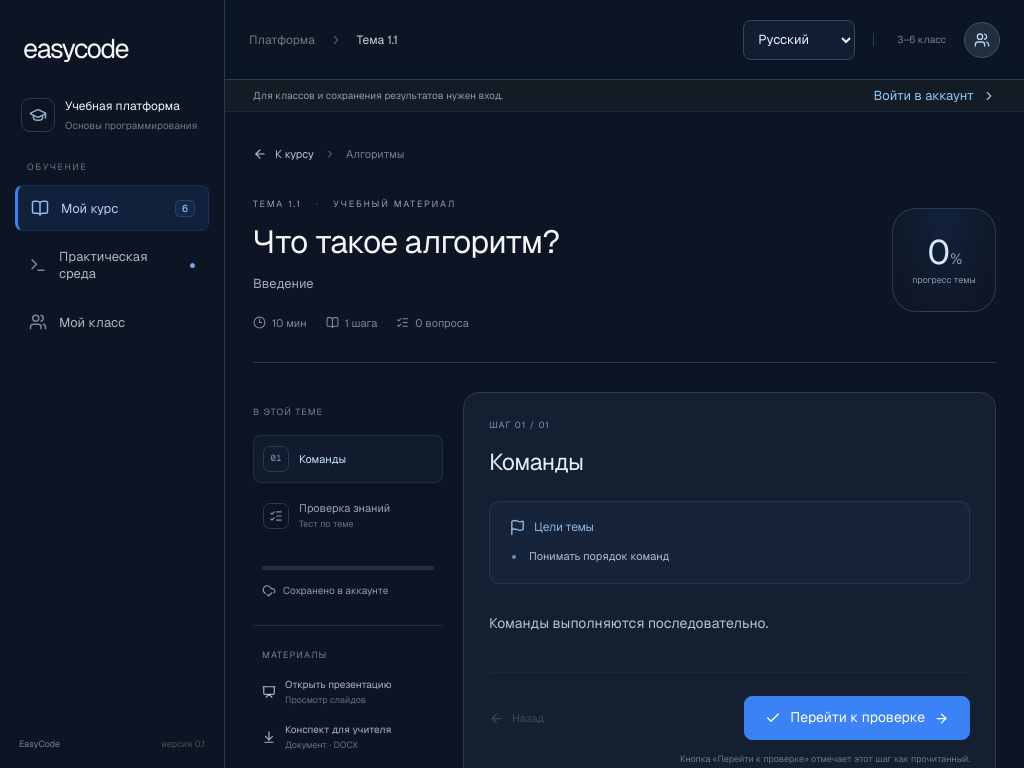
Test: Lesson presentation integration › requires sign-in for presentation previews and protected document downloads
What coordinates should you click on to do the following:
click the button "Открыть презентацию Просмотр слайдов"
I would click on:
 (327, 692)
Its box is [262,678,392,706].
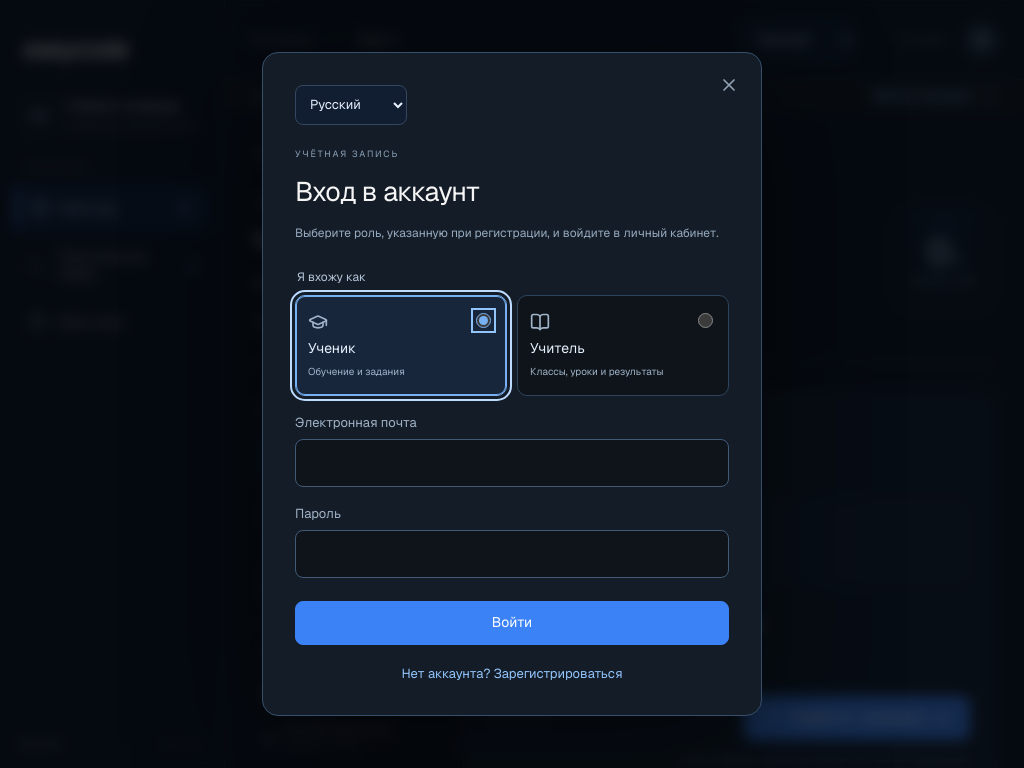
Result: the dialog named "Аккаунт" is shown at [262,52,762,716]
What coordinates should you click on to do the following:
click the button named "Закрыть"
I would click on:
 (729, 85)
Its box is [712,68,746,102].
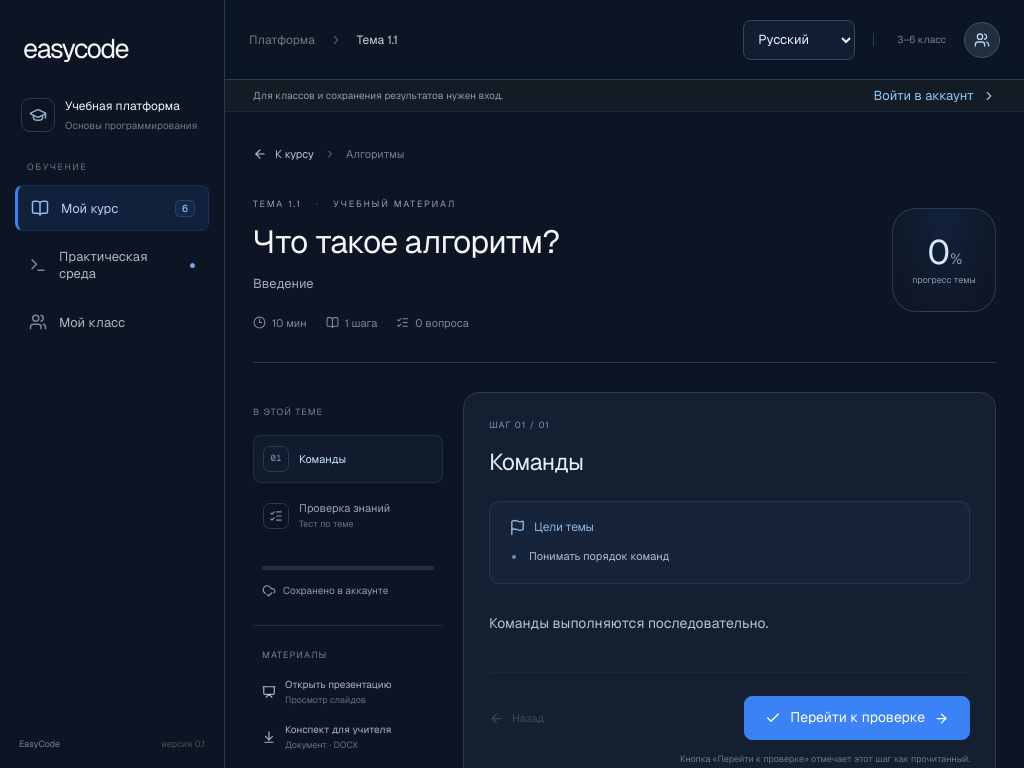
What coordinates should you click on to do the following:
click the button "Конспект для учителя Документ · DOCX"
I would click on:
 (327, 737)
Its box is [262,723,391,751].
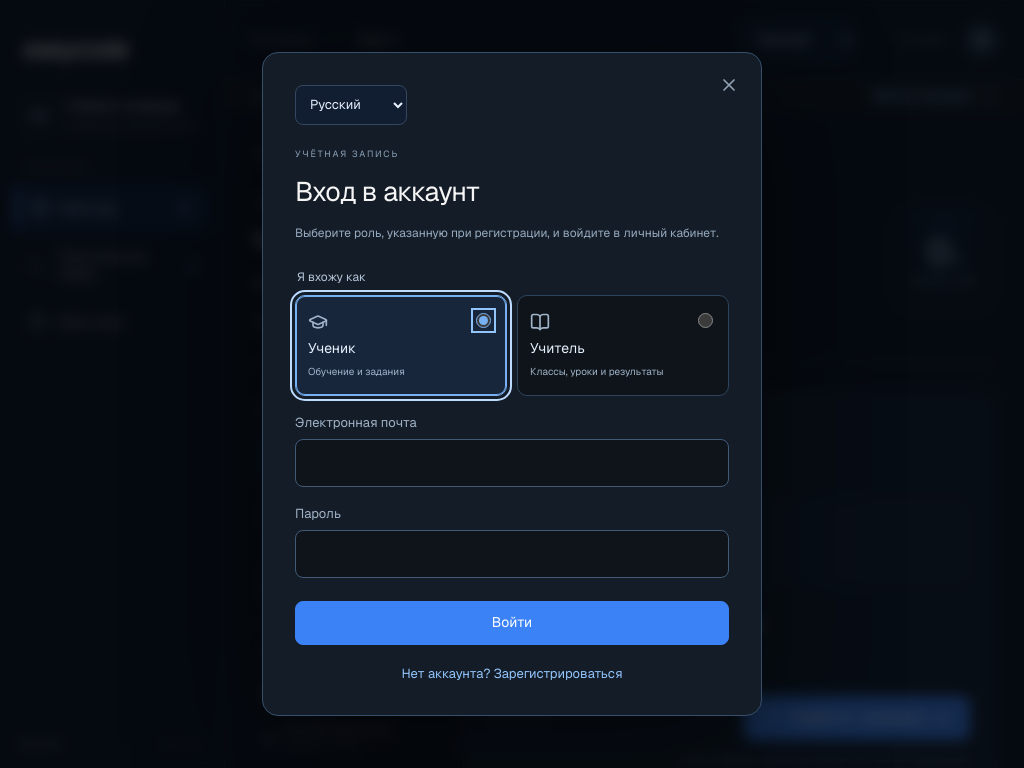
Result: the dialog named "Аккаунт" is shown at [262,52,762,716]
